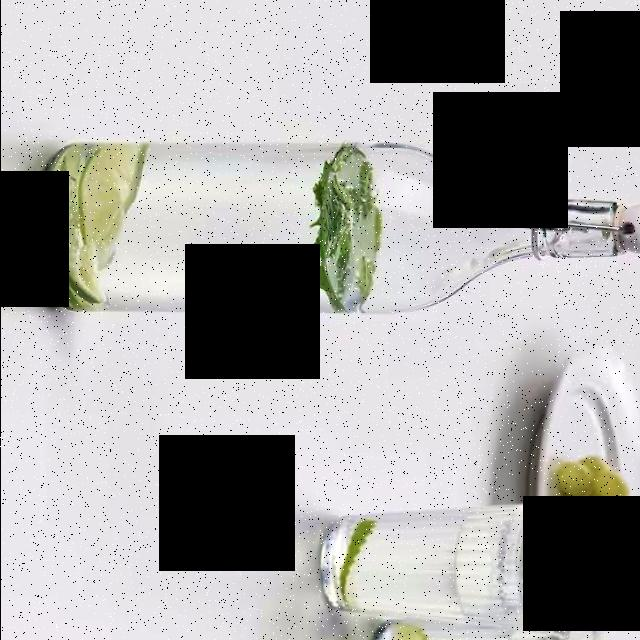glass-bottle: (22, 128, 640, 328)
